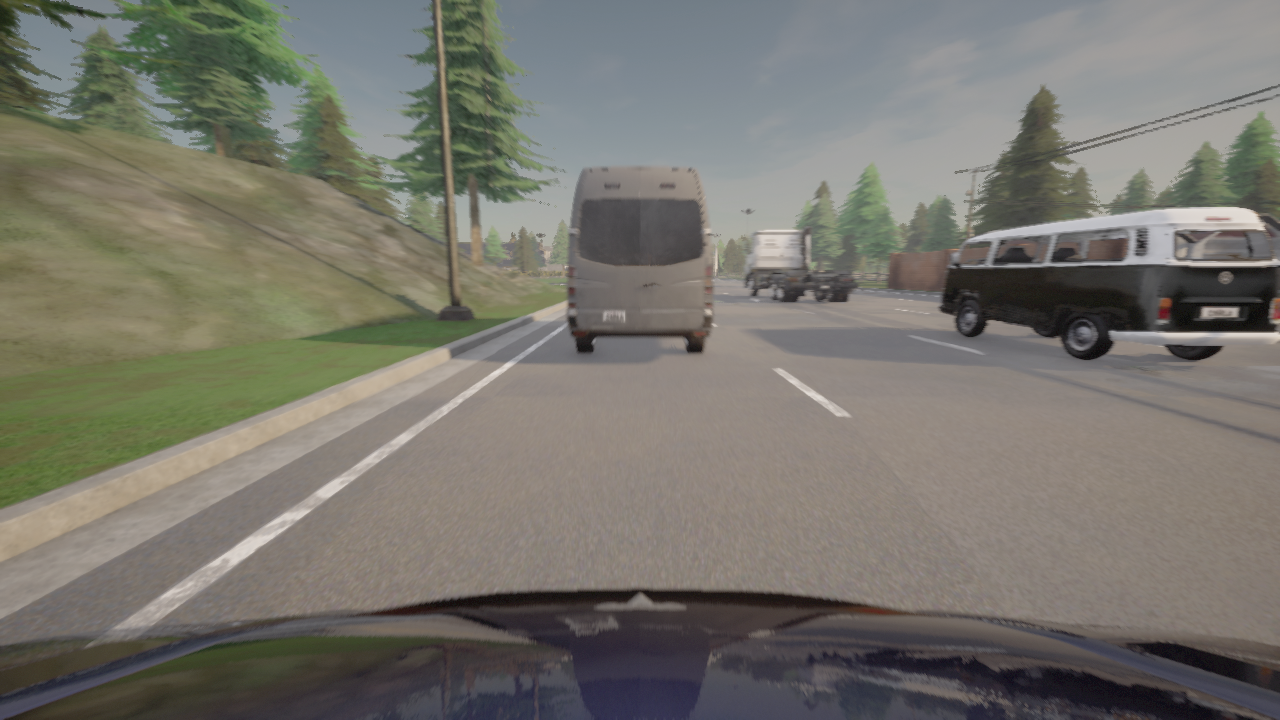cyclist: (0, 588, 1279, 719), (939, 207, 1279, 360), (566, 166, 713, 352), (741, 227, 857, 302)
